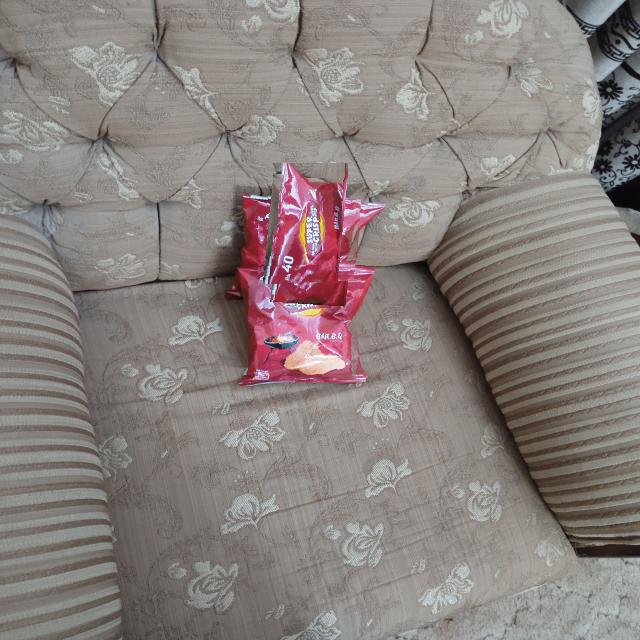Plastic: (248, 272, 365, 380), (258, 178, 364, 285)
